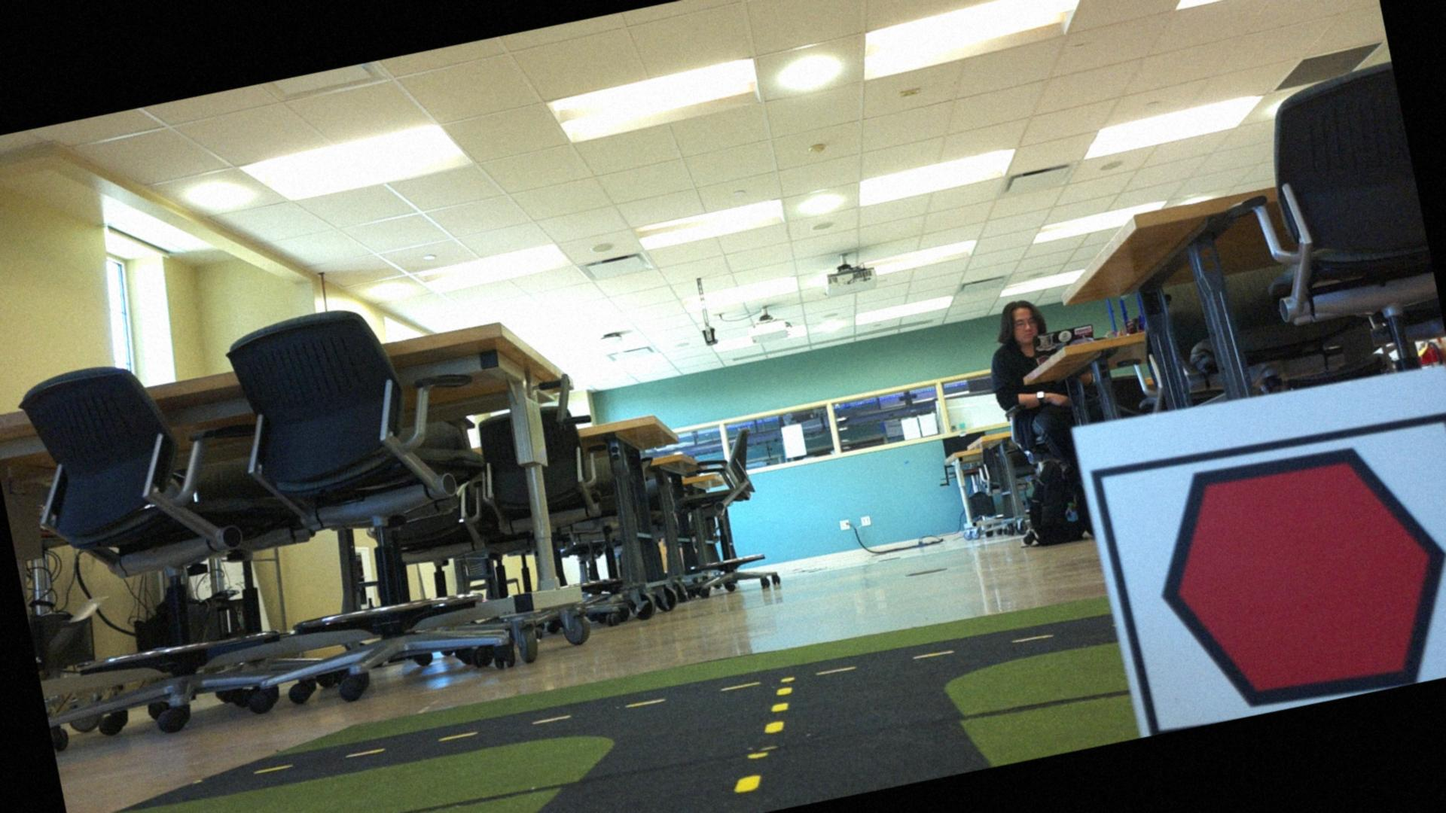stop: (1121, 421, 1445, 732)
yellowline: (717, 685, 808, 793)
